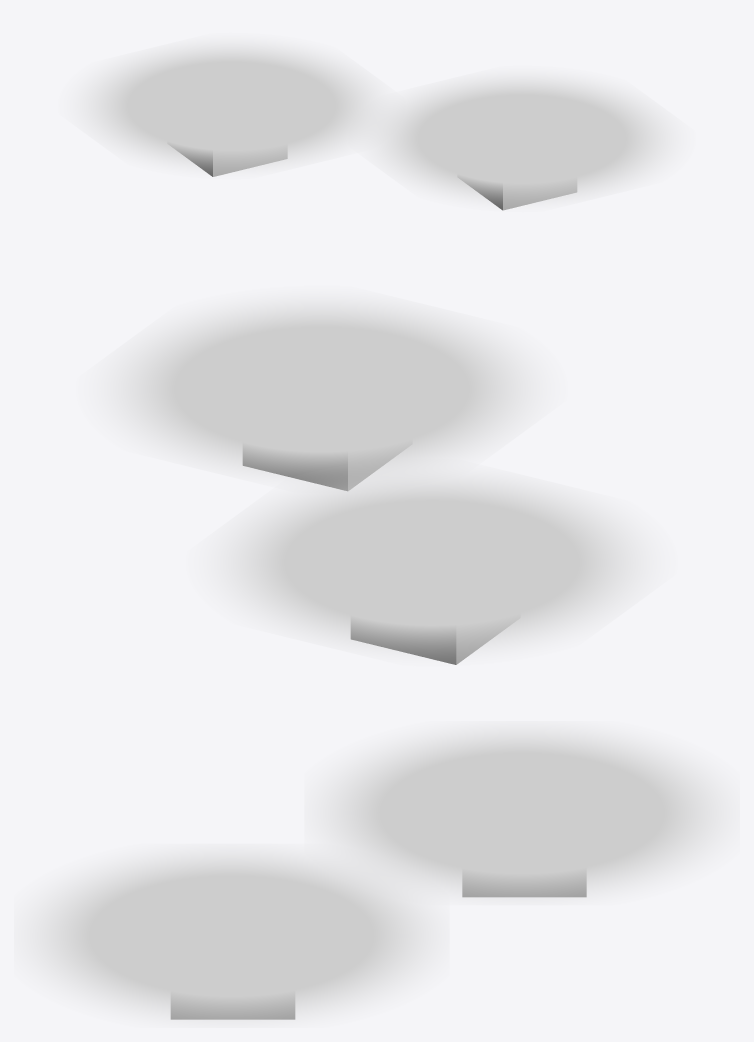
Rendered from blurplane.glb.
3 views of the same model, one above another, from view 1: azimuth 30°, elevation 25°; view 2: azimuth 150°, elevation 25°; view 3: azimuth 270°, elevation 25° (orthographic). The views are drawn at different scales.
Parts seen in each view (by area): view 1: BlurPlaneSeparation.001; view 2: BlurPlaneSeparation.001; view 3: BlurPlaneSeparation.001.
Boxes of the visible parts, x1,y1,x2,y2 form: BlurPlaneSeparation.001: [74, 39, 679, 210]; BlurPlaneSeparation.001: [98, 295, 655, 664]; BlurPlaneSeparation.001: [16, 722, 737, 1026].
Size of the model in its own units: 50 by 4.69 by 50.
2 materials, 1 textured.
